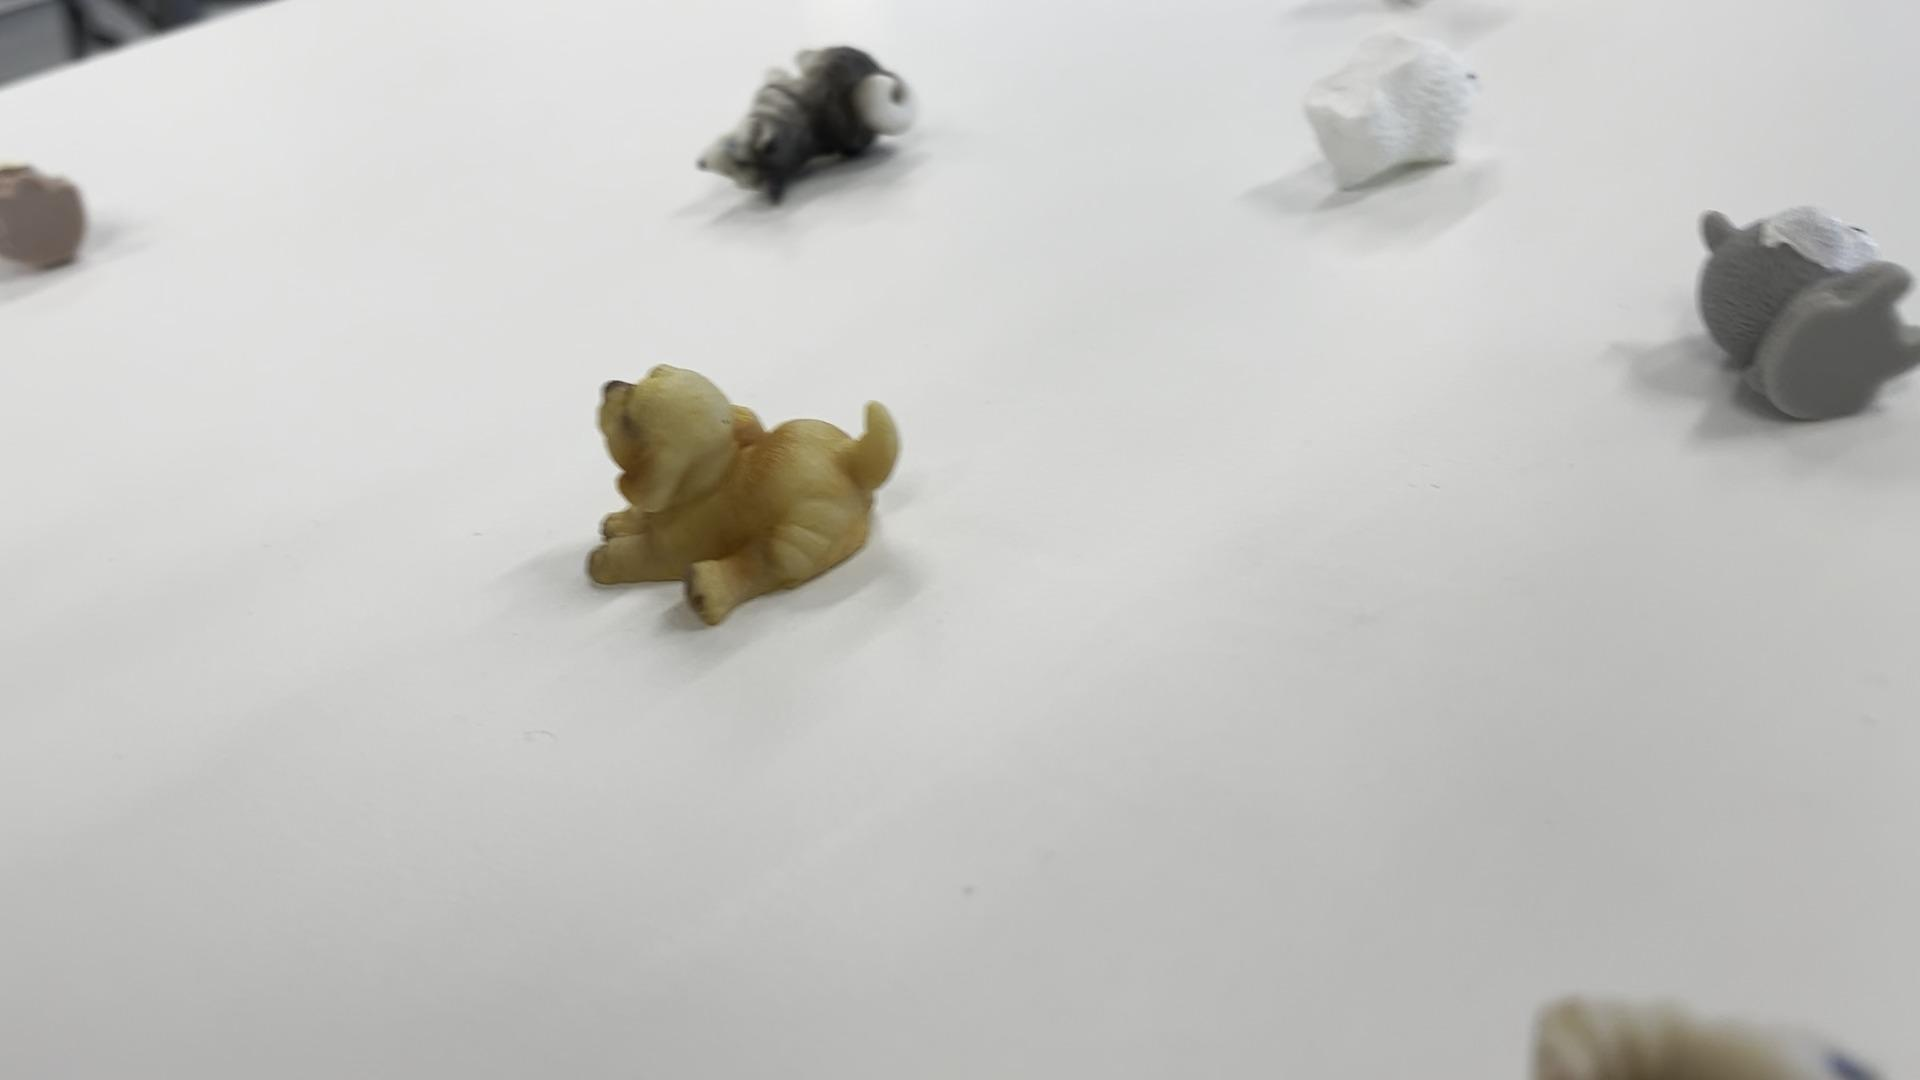pet: (582, 349, 903, 645), (1687, 190, 1920, 455), (678, 36, 926, 218), (1299, 33, 1495, 203)
